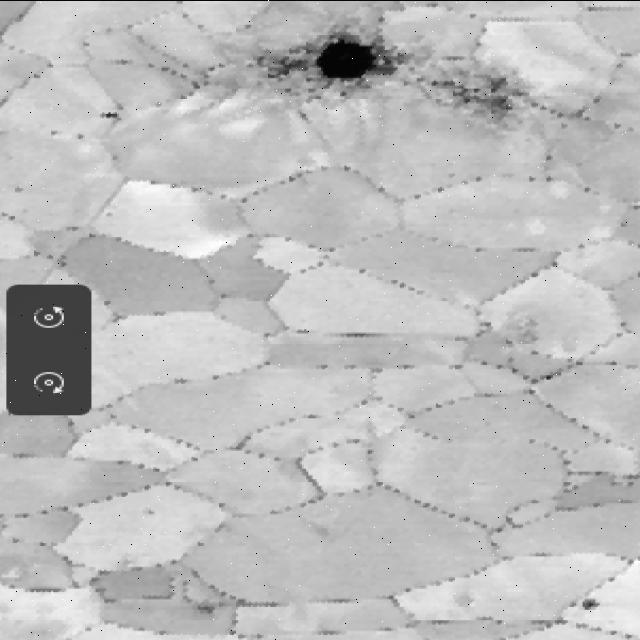good_void: (251, 23, 408, 99), (422, 75, 523, 118), (191, 599, 231, 621), (450, 590, 477, 613), (576, 594, 605, 615), (93, 108, 122, 122), (140, 505, 162, 520), (70, 129, 91, 144), (9, 181, 28, 196), (102, 210, 117, 219)
